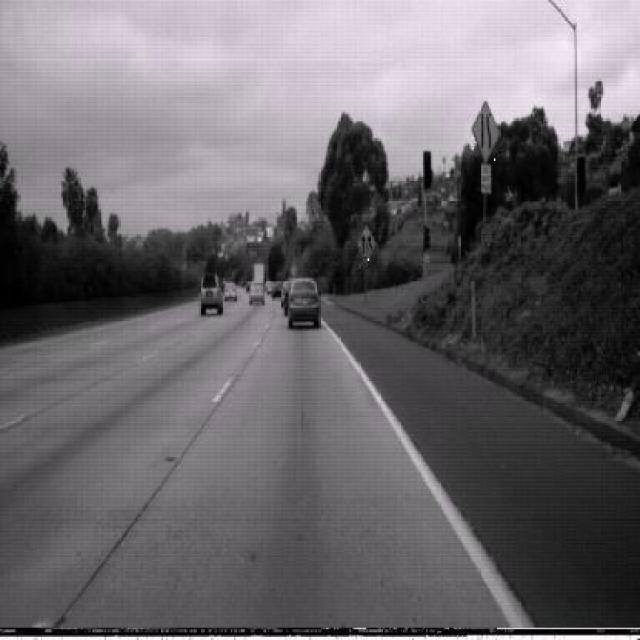addedLane: (356, 223, 376, 264)
laneEnds: (471, 98, 500, 162)
